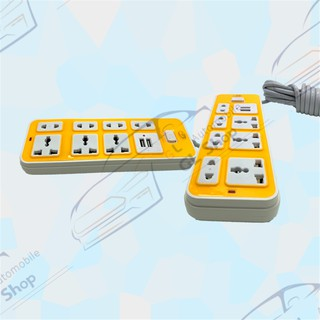Three_eye_plug: (178, 88, 286, 242), (9, 116, 204, 174)
